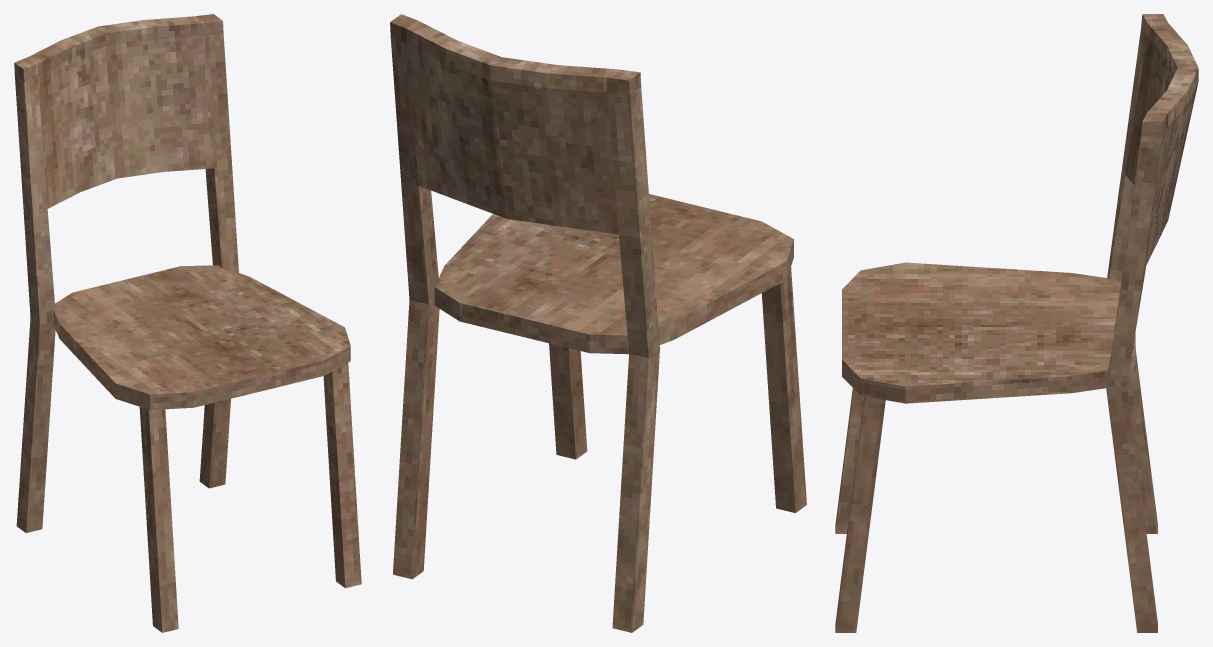
The model's file is apartment_chair.glb.
The picture shows the model from 3 angles, left to right: view 1: azimuth 30°, elevation 25°; view 2: azimuth 150°, elevation 25°; view 3: azimuth 270°, elevation 25°; orthographic projection. The views are drawn at different scales.
Parts seen in each view (by area): view 1: chair; view 2: chair; view 3: chair.
Boxes of the visible parts, <box> form: chair: <box>14,14,361,632</box>; chair: <box>390,14,806,632</box>; chair: <box>835,14,1198,632</box>.
Size of the model in its own units: 0.622 by 1.2 by 0.7699.
1 material, 1 textured.
